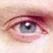eye: (20, 22, 35, 34)
